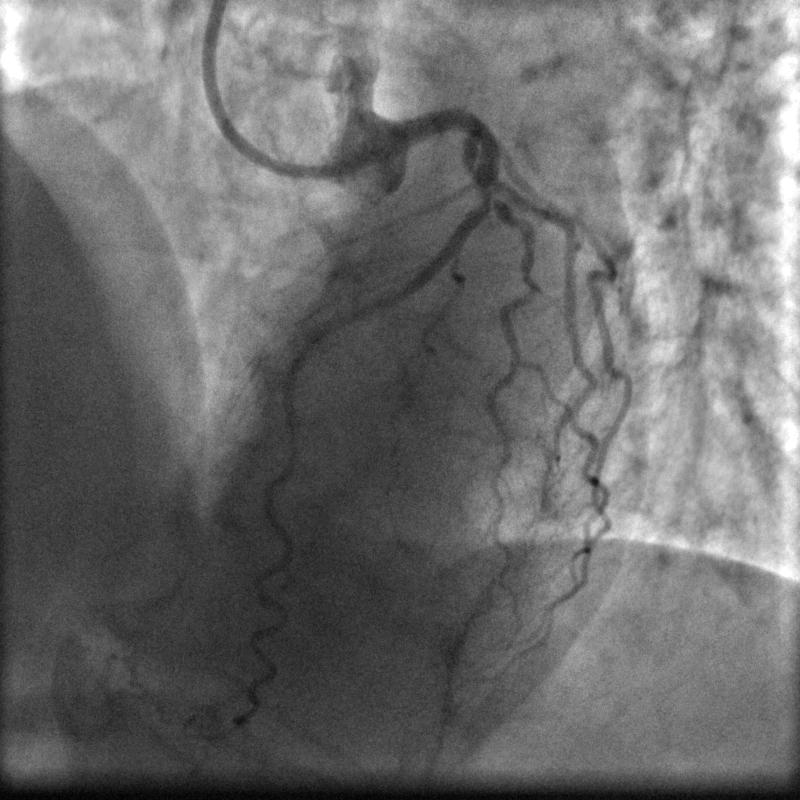Stenosis: (475, 186, 495, 211)
